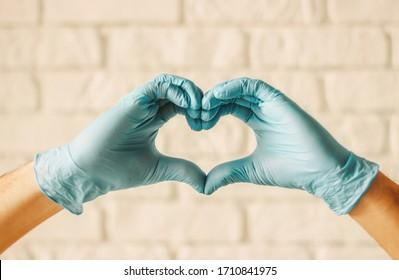gloves: (201, 75, 378, 216), (34, 73, 205, 216)
